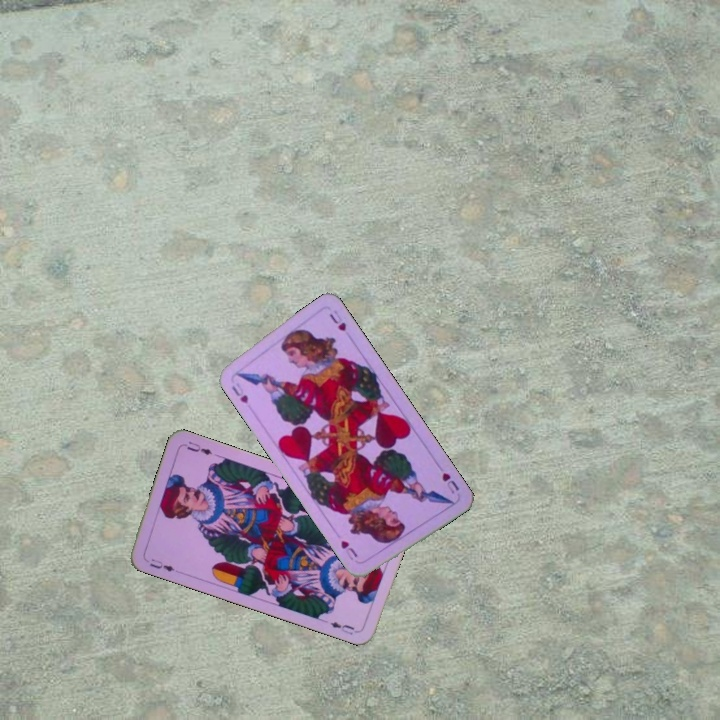EU: (145, 555, 177, 574)
HU: (227, 376, 251, 406), (438, 468, 462, 496)
